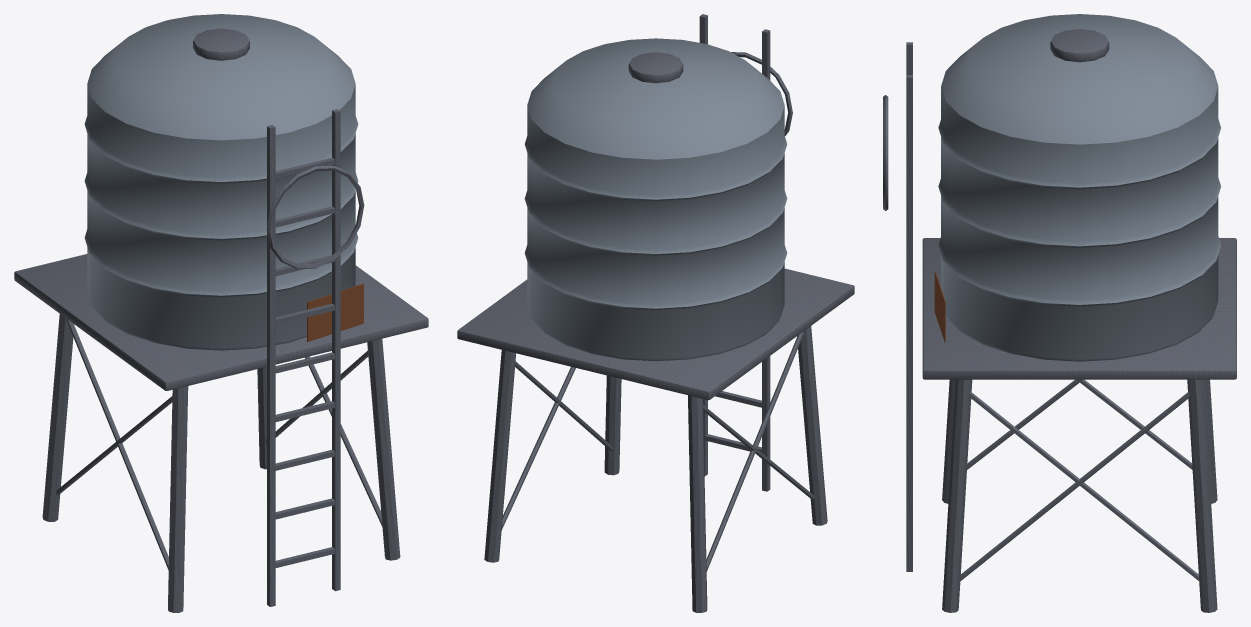
The model's file is caixa-d-agua.glb.
The picture shows the model from 3 angles, left to right: view 1: azimuth 30°, elevation 25°; view 2: azimuth 150°, elevation 25°; view 3: azimuth 270°, elevation 25°; orthographic projection. The views are drawn at different scales.
Parts seen in each view (by area): view 1: tanque, plataforma, banzo, banzo.001, pe, pe.002, pe.001, mancha, guarda, diagonal, tampa, pe.003 (+2 smaller); view 2: tanque, plataforma, pe.001, pe.003, pe, pe.002, banzo, diagonal.001, tampa, diagonal.003, diagonal, diagonal.002 (+2 smaller); view 3: tanque, plataforma, pe.003, pe.002, banzo.001, diagonal.002, diagonal.003, tampa, pe.001, pe, diagonal.001, diagonal (+2 smaller).
Boxes of the visible parts, <box> form: tanque: <box>84,14,358,350</box>; plataforma: <box>14,254,428,390</box>; banzo: <box>267,125,275,606</box>; banzo.001: <box>332,109,340,591</box>; pe: <box>168,386,188,612</box>; pe.002: <box>367,338,400,560</box>; pe.001: <box>42,314,74,521</box>; mancha: <box>307,283,363,341</box>; guarda: <box>266,165,364,268</box>; diagonal: <box>66,319,168,569</box>; tampa: <box>193,28,249,60</box>; pe.003: <box>257,367,266,469</box>; tanque: <box>524,38,787,361</box>; plataforma: <box>457,268,854,400</box>; pe.001: <box>688,395,707,612</box>; pe.003: <box>484,350,516,562</box>; pe: <box>797,326,827,525</box>; pe.002: <box>604,375,621,475</box>; banzo: <box>762,29,770,491</box>; diagonal.001: <box>706,331,804,571</box>; tampa: <box>628,52,683,83</box>; diagonal.003: <box>501,366,575,529</box>; diagonal: <box>703,405,814,500</box>; diagonal.002: <box>515,361,613,450</box>; tanque: <box>938,14,1220,361</box>; plataforma: <box>922,238,1236,379</box>; pe.003: <box>1187,379,1217,612</box>; pe.002: <box>942,379,972,612</box>; banzo.001: <box>906,75,912,571</box>; diagonal.002: <box>960,391,1189,580</box>; diagonal.003: <box>969,392,1199,580</box>; tampa: <box>1050,29,1109,62</box>; pe.001: <box>1204,379,1217,503</box>; pe: <box>942,379,955,503</box>; diagonal.001: <box>1077,379,1192,469</box>; diagonal: <box>967,379,1082,469</box>.
Bounding box in the file's own units: 1.7 × 3.07 × 1.91.
3 materials, 1 textured.
